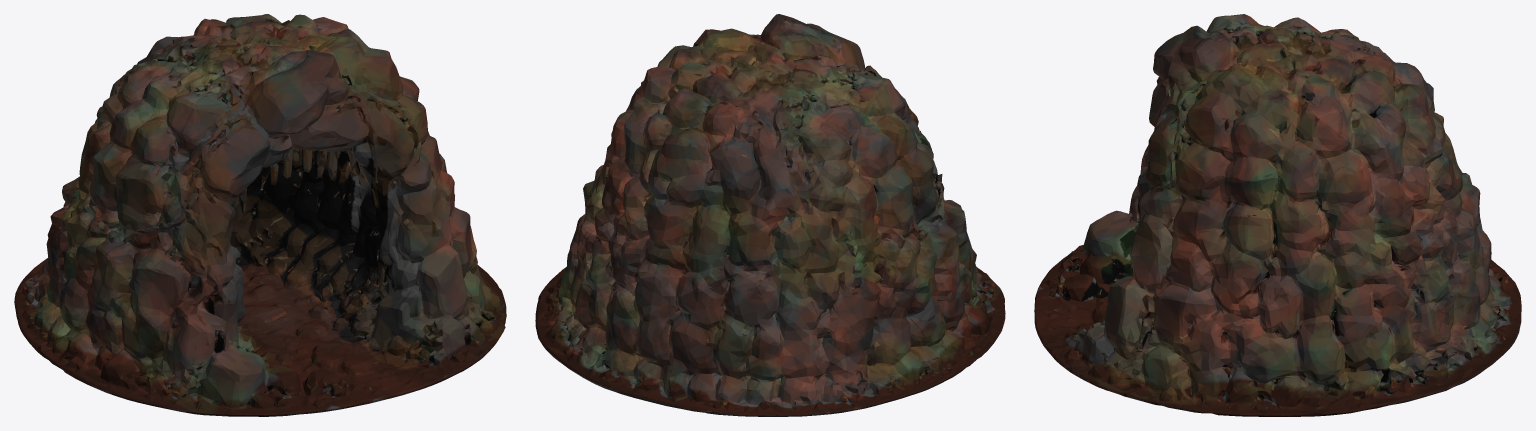
Rendered from caverna.glb.
The picture shows the model from 3 angles, left to right: view 1: azimuth 30°, elevation 25°; view 2: azimuth 150°, elevation 25°; view 3: azimuth 270°, elevation 25°; orthographic projection. The views are drawn at different scales.
Parts seen in each view (by area): view 1: tmpvnbxa_fk.ply; view 2: tmpvnbxa_fk.ply; view 3: tmpvnbxa_fk.ply.
Boxes of the visible parts, x1,y1,x2,y2 form: tmpvnbxa_fk.ply: (14, 14, 506, 416); tmpvnbxa_fk.ply: (535, 14, 1005, 416); tmpvnbxa_fk.ply: (1034, 14, 1521, 416).
Size of the model in its own units: 1.96 by 1.27 by 1.96.
1 material, 1 textured.
